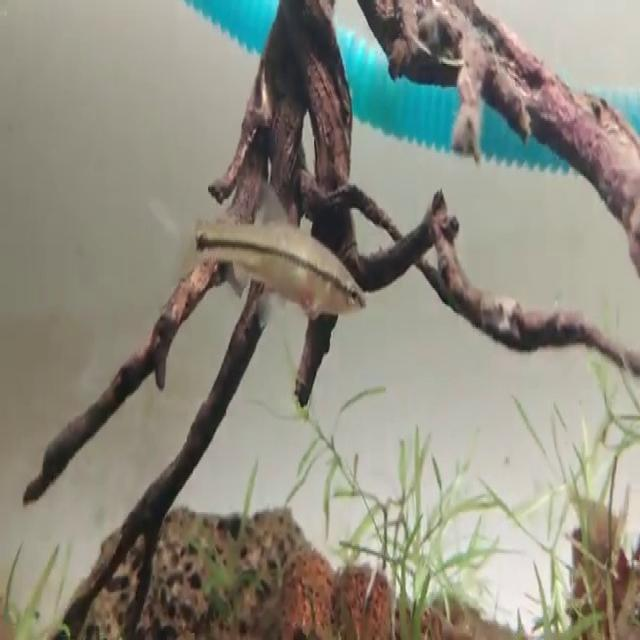Cakil Baligi: (153, 195, 368, 319)
